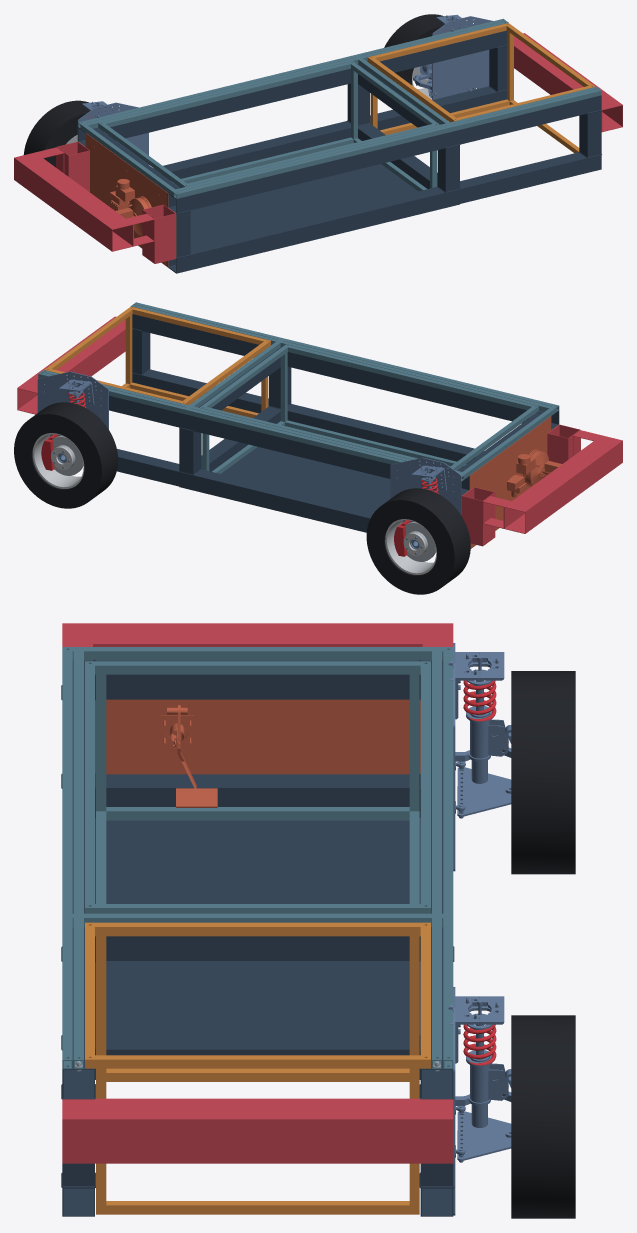
The model's file is sgt01.glb.
3 renders of one model, top to bottom at view 1: azimuth 30°, elevation 25°; view 2: azimuth 150°, elevation 25°; view 3: azimuth 270°, elevation 25°, orthographic. The views are drawn at different scales.
Parts seen in each view (by area): view 1: solid_000, solid_014, solid_004, solid_009, solid_005, solid_090, solid_118, solid_260, solid_239, solid_121, solid_237, solid_102 (+32 smaller); view 2: solid_237, solid_178, solid_005, solid_014, solid_004, solid_000, solid_090, solid_009, solid_260, solid_239, solid_120, solid_101 (+34 smaller); view 3: solid_014, solid_239, solid_260, solid_178, solid_237, solid_010, solid_090, solid_011, solid_013, solid_012, solid_119, solid_111 (+39 smaller).
Boxes of the visible parts, <box> form: solid_000: <box>168,152,601,272</box>; solid_014: <box>168,164,459,273</box>; solid_004: <box>168,95,601,213</box>; solid_009: <box>78,30,506,146</box>; solid_005: <box>153,86,506,180</box>; solid_090: <box>14,152,133,251</box>; solid_118: <box>173,89,601,198</box>; solid_260: <box>78,133,176,267</box>; solid_239: <box>514,33,622,132</box>; solid_121: <box>432,16,493,99</box>; solid_237: <box>23,100,89,167</box>; solid_102: <box>103,62,350,127</box>; solid_237: <box>366,488,470,594</box>; solid_178: <box>14,402,117,508</box>; solid_005: <box>117,449,374,532</box>; solid_014: <box>179,447,498,548</box>; solid_004: <box>132,314,559,429</box>; solid_000: <box>132,369,483,463</box>; solid_090: <box>504,435,622,533</box>; solid_009: <box>44,383,469,495</box>; solid_260: <box>461,416,558,548</box>; solid_239: <box>17,316,125,414</box>; solid_120: <box>38,372,463,481</box>; solid_101: <box>288,345,533,410</box>; solid_014: <box>95,818,420,1079</box>; solid_239: <box>62,1098,453,1163</box>; solid_260: <box>95,699,420,774</box>; solid_178: <box>511,1015,575,1218</box>; solid_237: <box>511,671,575,874</box>; solid_010: <box>106,774,409,806</box>; solid_090: <box>62,623,453,646</box>; solid_011: <box>96,660,419,699</box>; solid_013: <box>106,936,409,960</box>; solid_012: <box>106,1036,409,1055</box>; solid_119: <box>72,647,443,660</box>; solid_111: <box>85,922,430,936</box>.
Size of the model in its own units: 3.66 by 0.7513 by 1.6.
